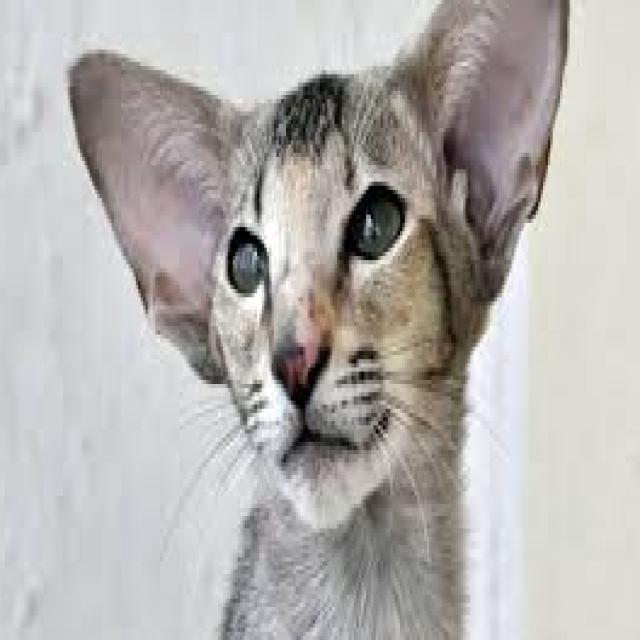Oriental: (61, 0, 574, 640)
